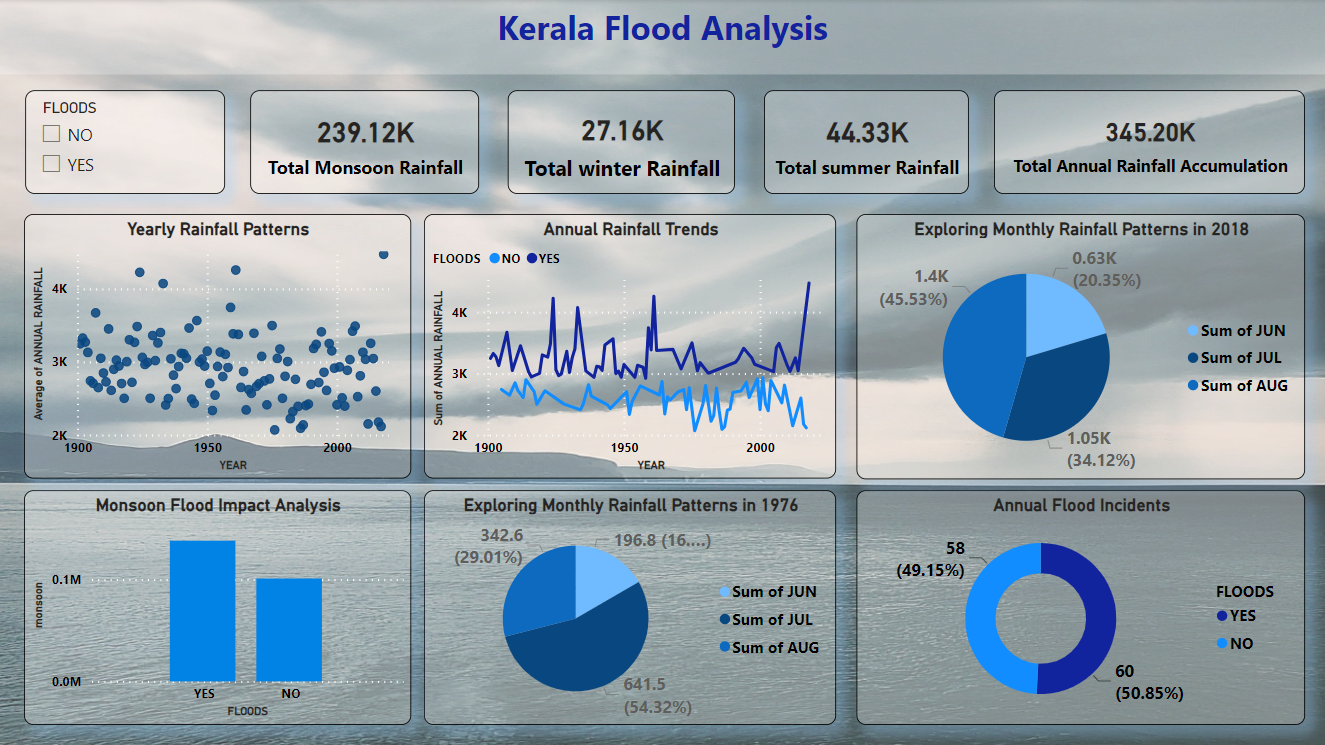

The page's visual inventory and layout, read from the dashboard file:
{"tool":"powerbi","page":{"name":"Page 1","canvas":[1280,720],"ordinal":0},"visuals":[{"type":"donutChart","title":"Annual Flood Incidents","fields":{"Category":["flood_BI_dataset.FLOODS"],"Y":["CountNonNull(flood_BI_dataset.FLOODS)"]},"box":[827.3,474,433,226.7],"z":0},{"type":"textbox","box":[0,0,1280.3,72.7],"z":1000},{"type":"lineChart","title":"Annual Rainfall Trends","fields":{"Category":["flood_BI_dataset.YEAR"],"Y":["Sum(flood_BI_dataset. ANNUAL RAINFALL)"],"Series":["flood_BI_dataset.FLOODS"]},"box":[410.3,207.2,397.9,255.2],"z":2000},{"type":"slicer","fields":{"Values":["flood_BI_dataset.FLOODS"]},"box":[25.3,88,193,100.1],"z":3000},{"type":"card","fields":{"Values":["Sum(flood_BI_dataset. ANNUAL RAINFALL)"]},"box":[960,88,300.3,100.1],"z":4000},{"type":"pieChart","title":"Exploring Monthly Rainfall Patterns in 2018","fields":{"Y":["Sum(flood_BI_dataset.JUN)","Sum(flood_BI_dataset.JUL)","Sum(flood_BI_dataset.AUG)"]},"box":[827.3,207.4,433,255.7],"z":5000},{"type":"card","fields":{"Values":["flood_BI_dataset.monsoon"]},"box":[242.4,88,220.7,100.1],"z":6000},{"type":"card","fields":{"Values":["flood_BI_dataset.summer"]},"box":[738.1,88,197.8,100.1],"z":7000},{"type":"card","fields":{"Values":["flood_BI_dataset.winter"]},"box":[490.9,88,219.5,100.1],"z":8000},{"type":"pieChart","title":"Exploring Monthly Rainfall Patterns in 1976","fields":{"Y":["Sum(flood_BI_dataset.JUN)","Sum(flood_BI_dataset.JUL)","Sum(flood_BI_dataset.AUG)"]},"box":[410.1,474,398,226.7],"z":9000},{"type":"columnChart","title":"Monsoon Flood Impact Analysis","fields":{"Y":["flood_BI_dataset.monsoon"],"Category":["flood_BI_dataset.FLOODS"]},"box":[24.7,473.4,373.2,226.4],"z":10000},{"type":"scatterChart","title":"Yearly Rainfall Patterns","fields":{"X":["flood_BI_dataset.YEAR"],"Y":["Avg(flood_BI_dataset. ANNUAL RAINFALL)"]},"box":[24.7,207.2,373.2,255.2],"z":11000}]}

Visuals, with their boxes in screenshot pixels (x1, y1, x2, y2), scaled from the page's 1280x720 canvas onto the 1325x745 screenshot:
"Annual Flood Incidents" donutChart: bbox=(856, 490, 1305, 725)
textbox: bbox=(0, 0, 1324, 75)
"Annual Rainfall Trends" lineChart: bbox=(425, 214, 837, 478)
slicer - flood_BI_dataset.FLOODS: bbox=(26, 91, 226, 195)
card - Sum(flood_BI_dataset. ANNUAL RAINFALL): bbox=(994, 91, 1305, 195)
"Exploring Monthly Rainfall Patterns in 2018" pieChart: bbox=(856, 215, 1305, 479)
card - flood_BI_dataset.monsoon: bbox=(251, 91, 479, 195)
card - flood_BI_dataset.summer: bbox=(764, 91, 969, 195)
card - flood_BI_dataset.winter: bbox=(508, 91, 735, 195)
"Exploring Monthly Rainfall Patterns in 1976" pieChart: bbox=(425, 490, 837, 725)
"Monsoon Flood Impact Analysis" columnChart: bbox=(26, 490, 412, 724)
"Yearly Rainfall Patterns" scatterChart: bbox=(26, 214, 412, 478)
